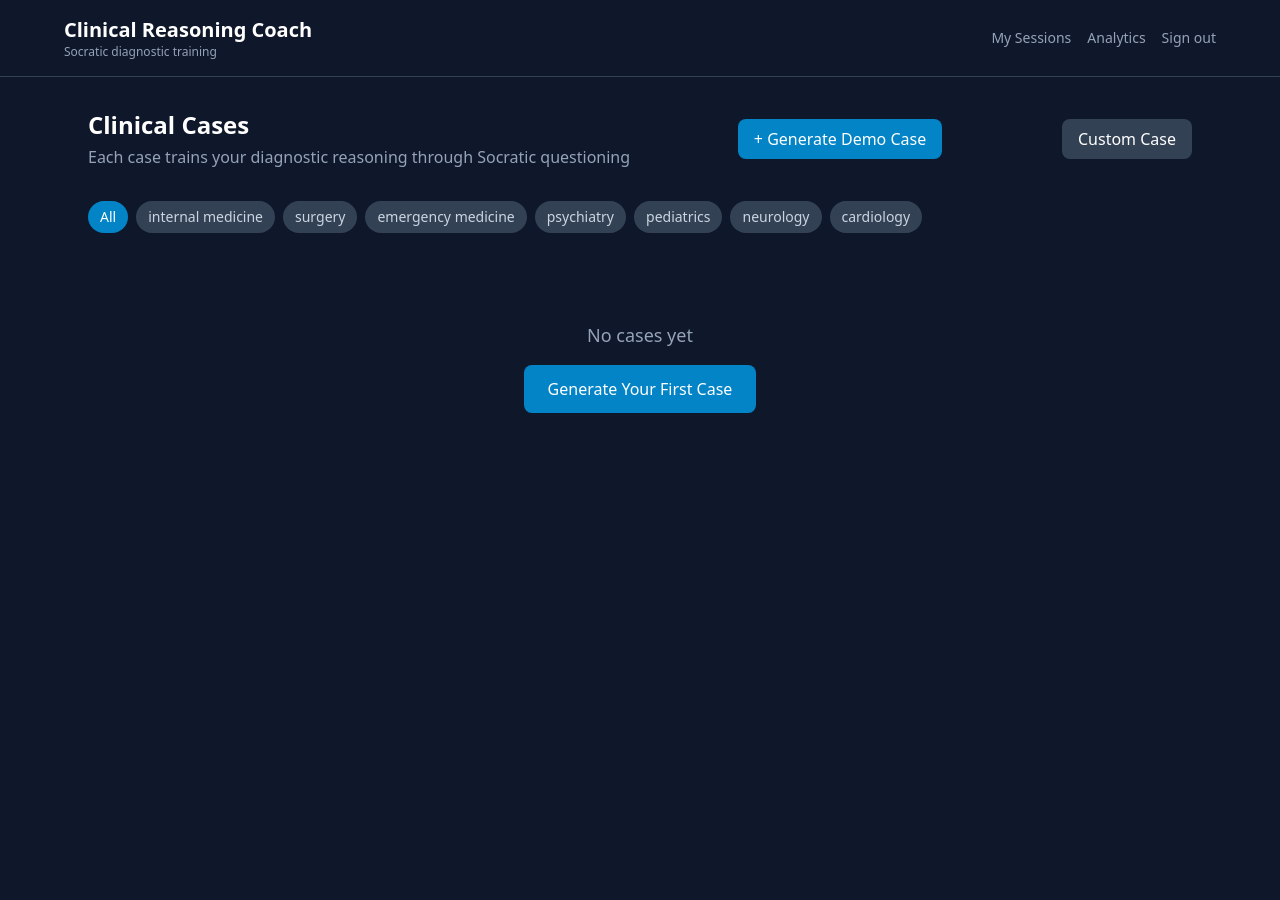
Test: CasesPage › shows structured real-patient feedback when custom generation seed is blocked
Click the button "Custom Case".
click(1127, 139)  # box [1062,119,1192,159]
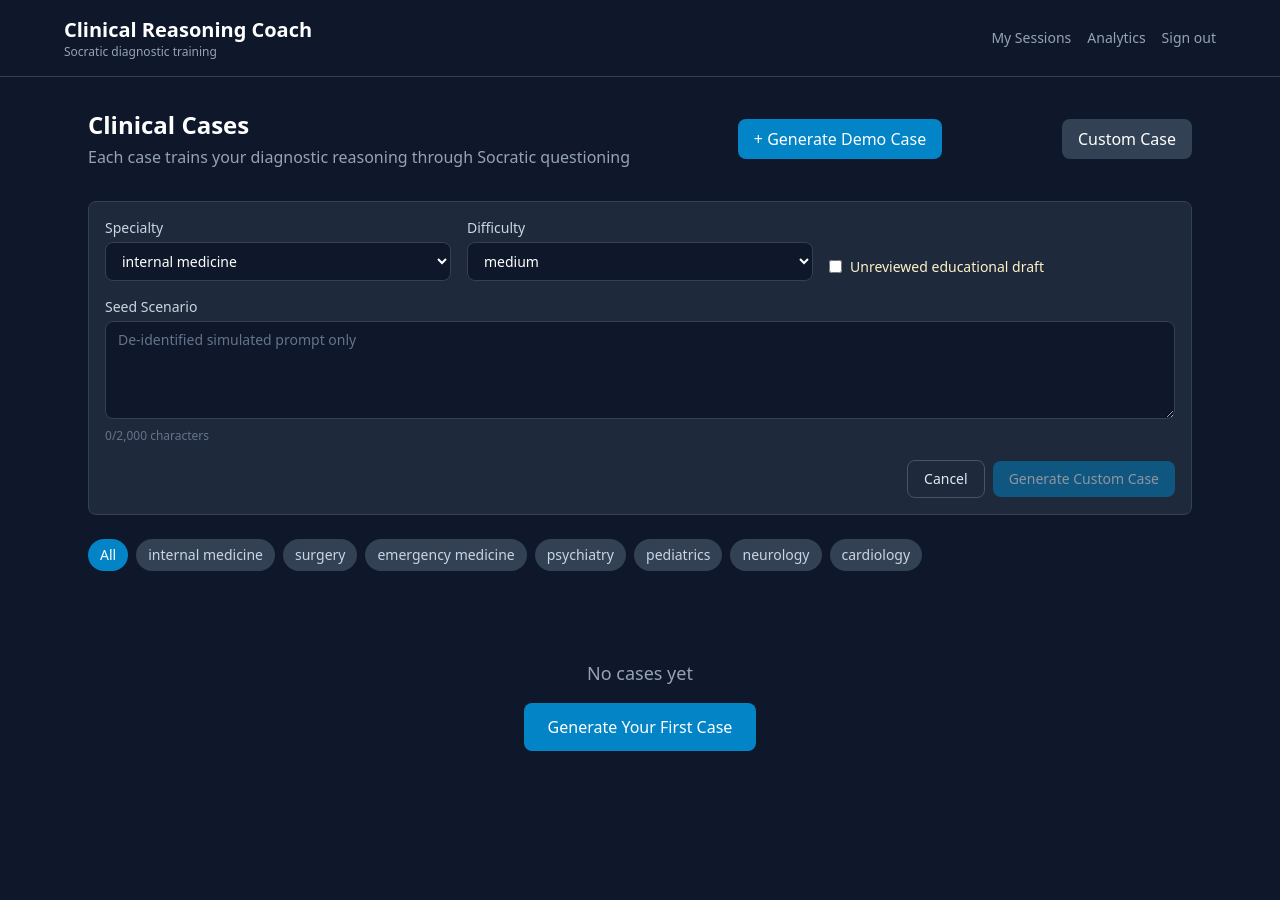
Type "My patient is deteriorating right now in clinic." into the text box labelled "Seed Scenario".
click(640, 370); type("My patient is deteriorating right now in clinic.")  # box [105,321,1175,419]
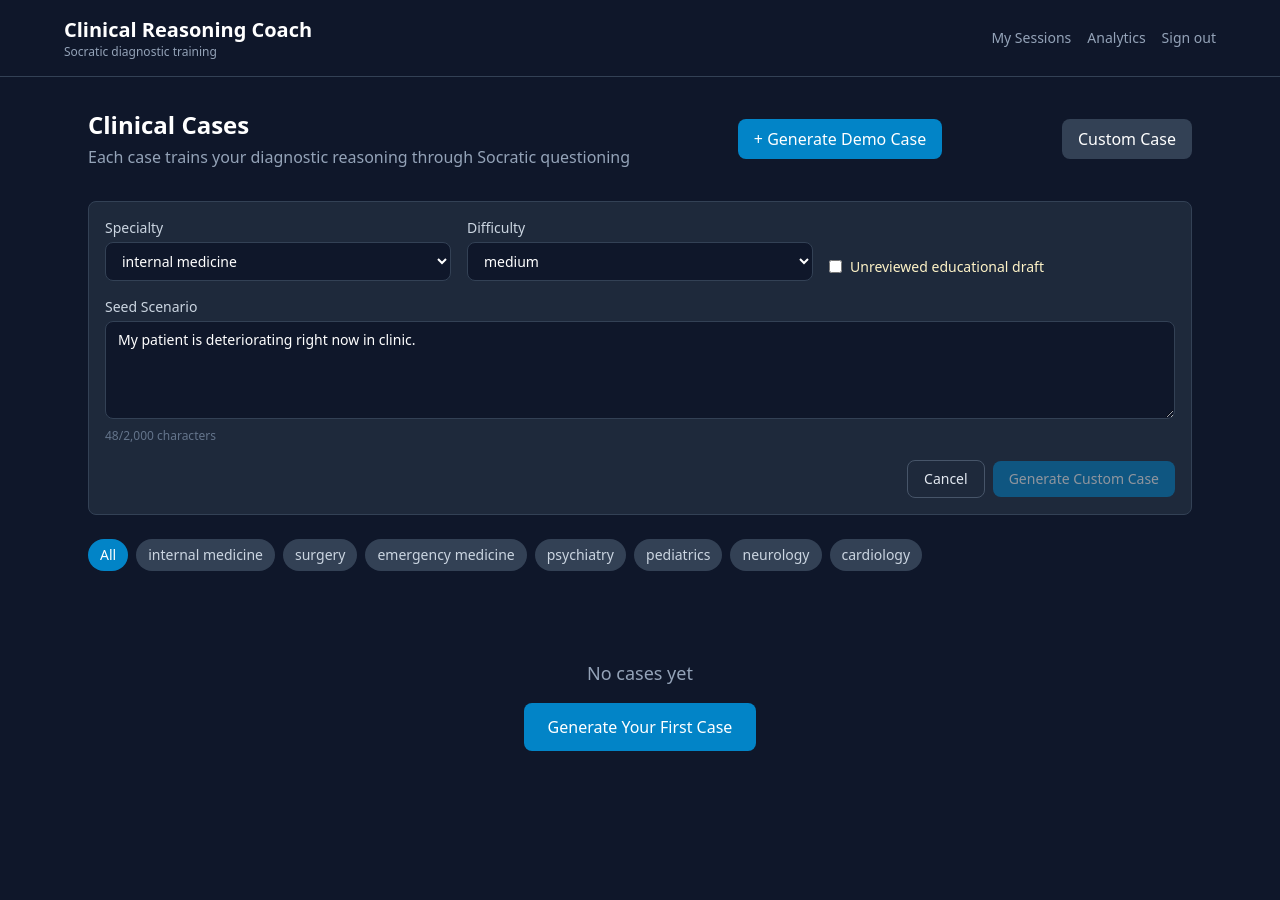
Click the checkbox labelled "Unreviewed educational draft".
click(836, 266)  # box [829,260,842,273]
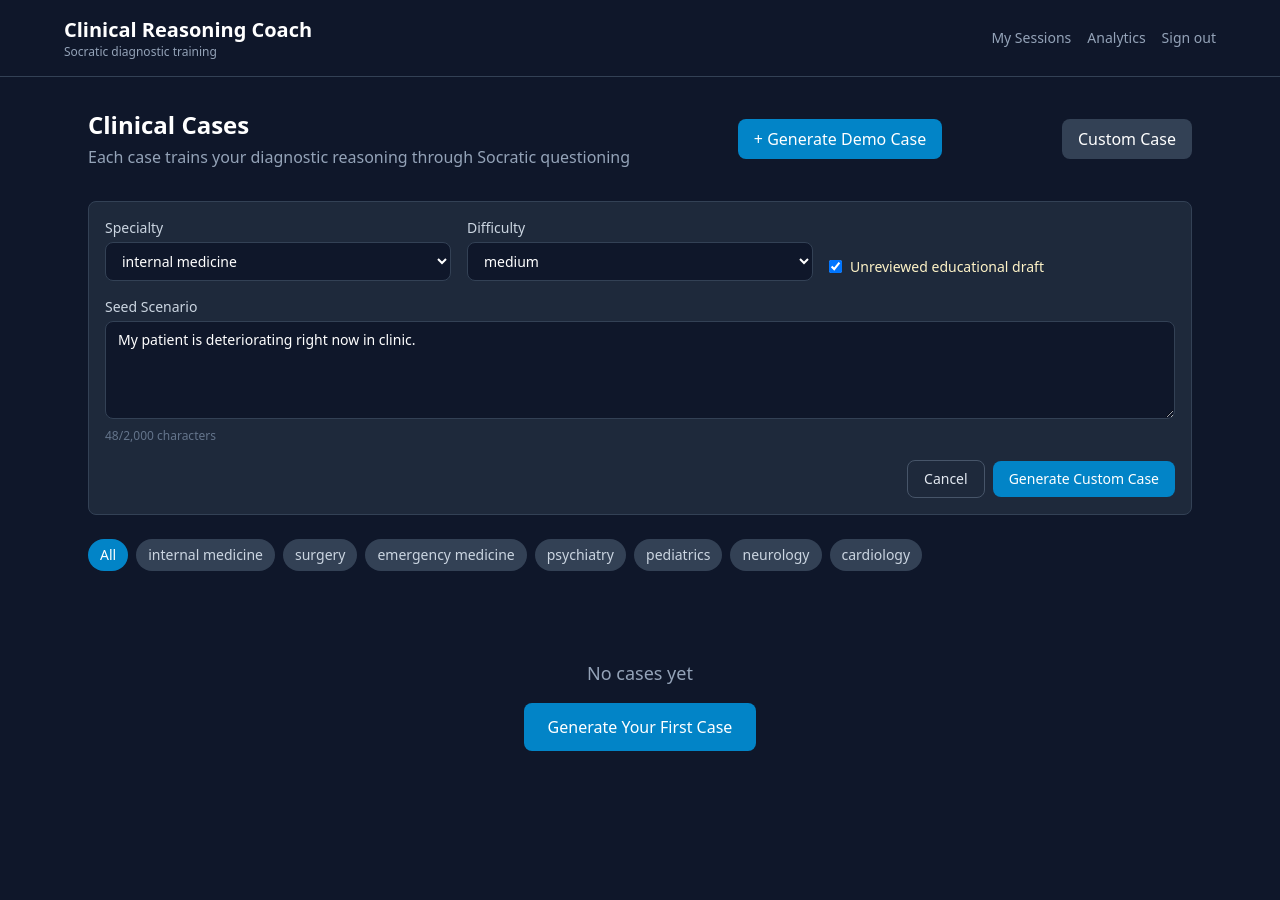
Click the button "Generate Custom Case".
click(1084, 479)  # box [993,461,1175,497]
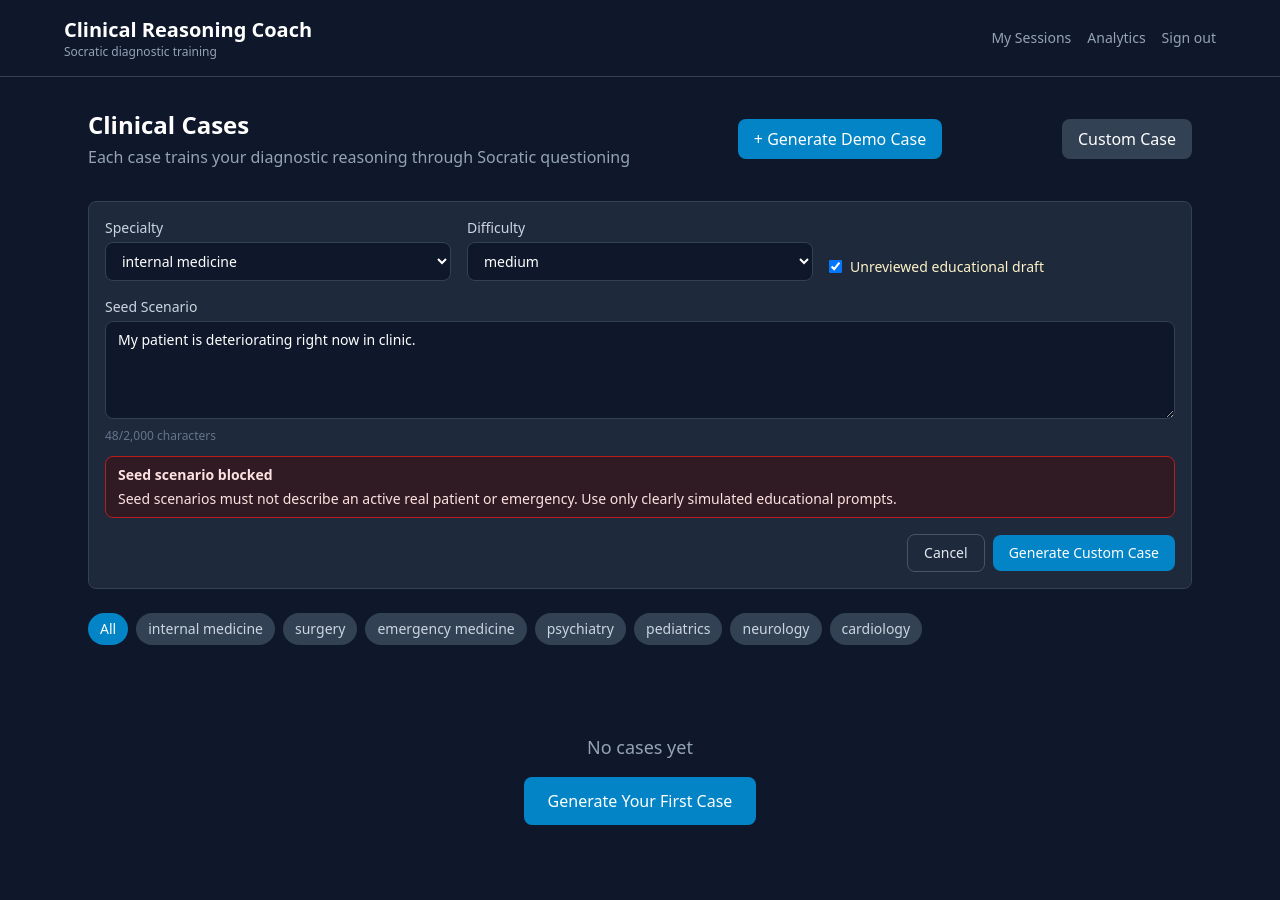
Expected: the text "Seed scenario blocked" is shown, [118,465,273,484]
Expected: the text "active real patient or emergency" is shown, [118,489,897,508]
